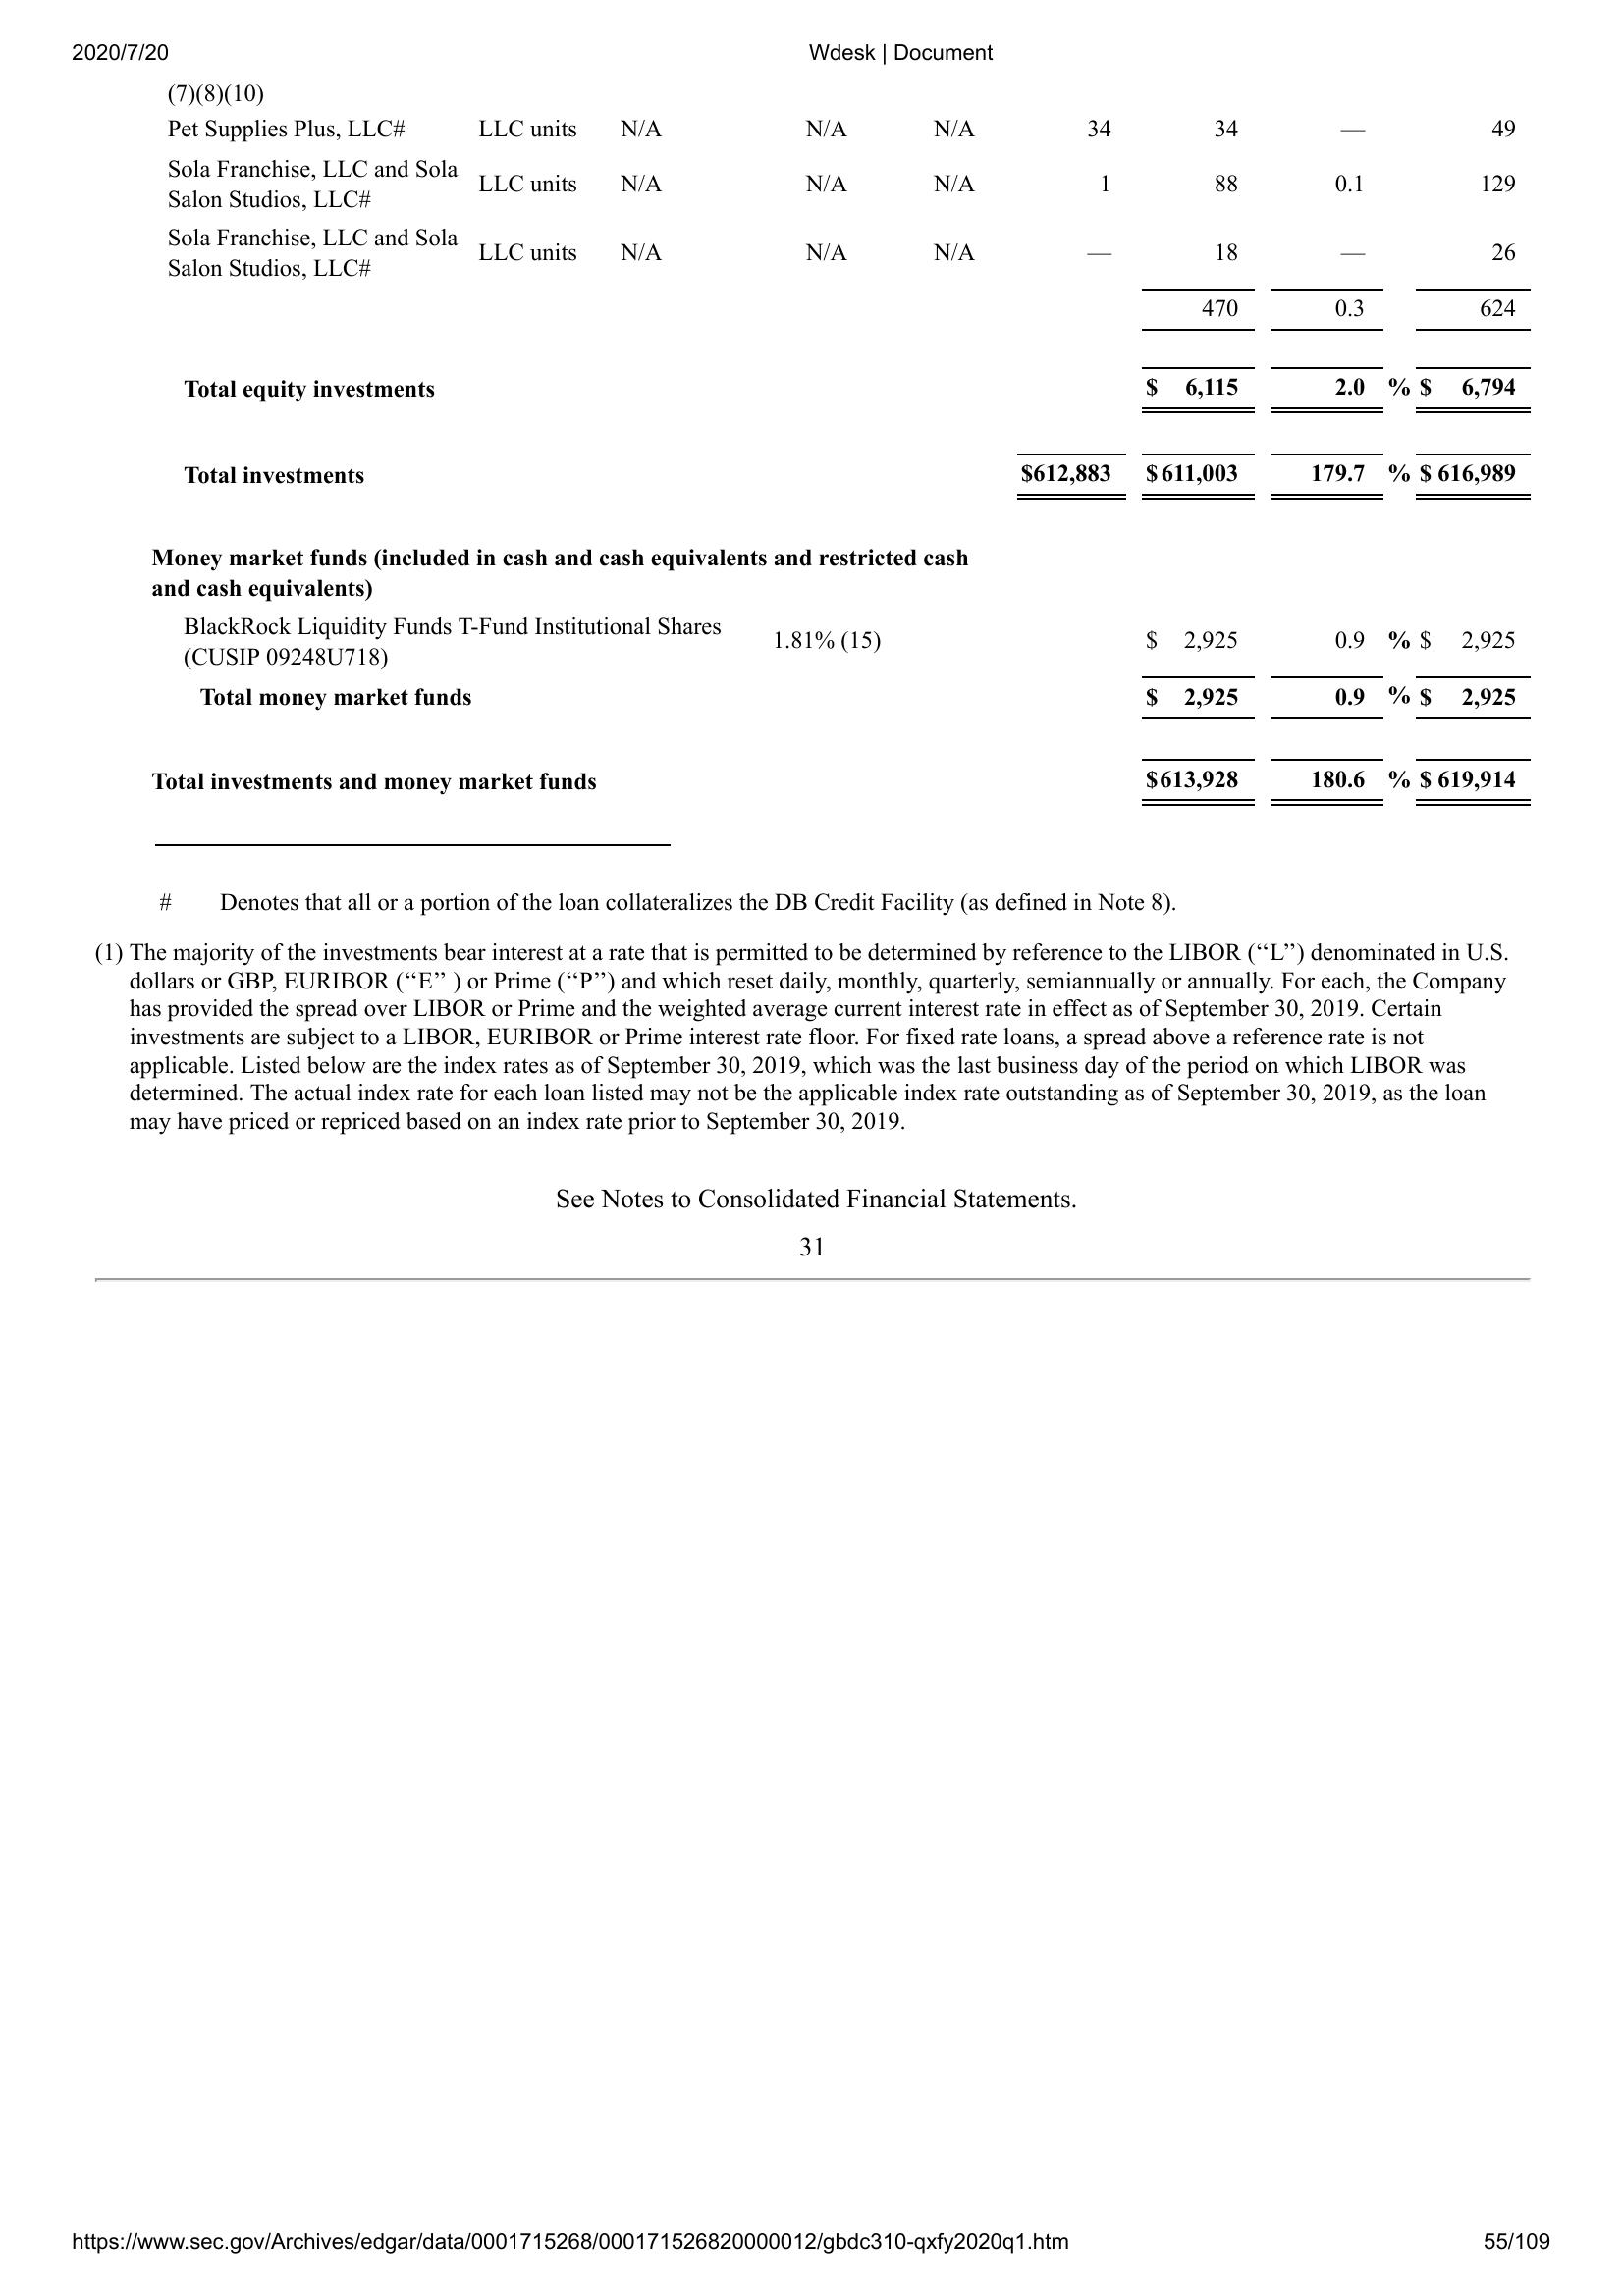table: (156, 77, 1547, 823)
